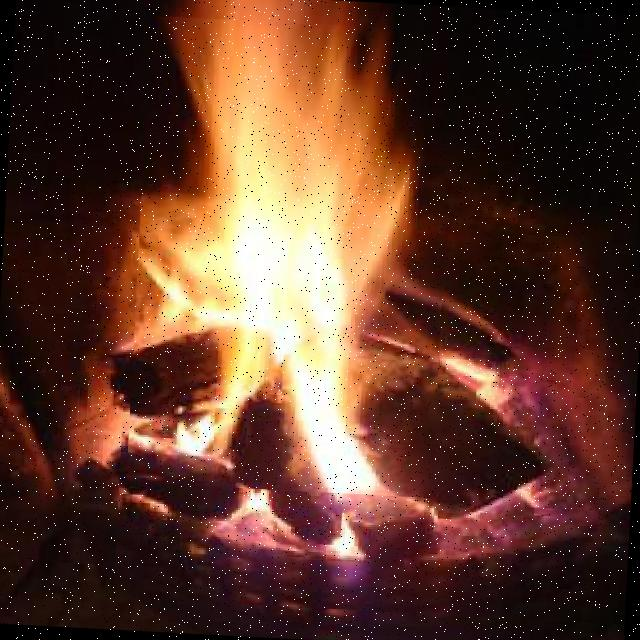fire: (126, 16, 456, 498)
